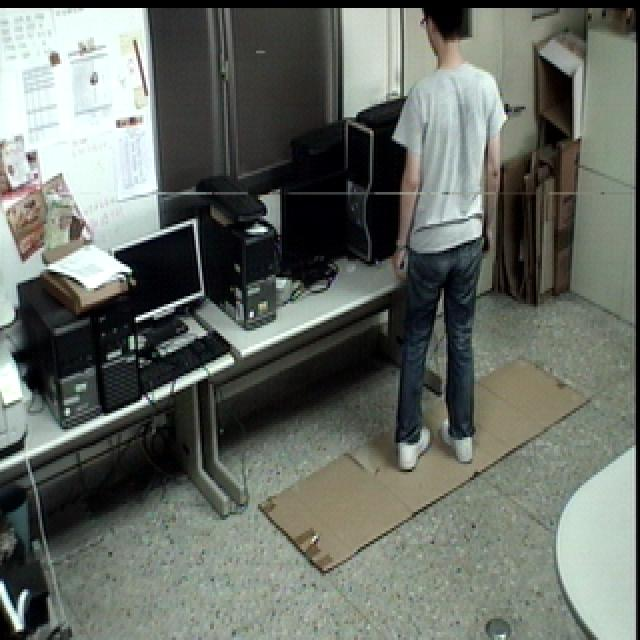stand: (390, 0, 512, 483)
